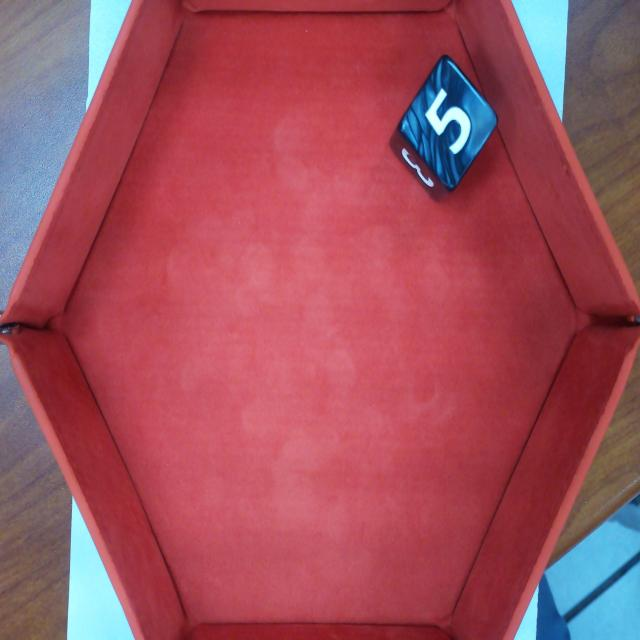dice: (394, 51, 502, 195)
